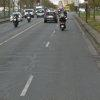Motorcycle: (56, 9, 71, 36)
